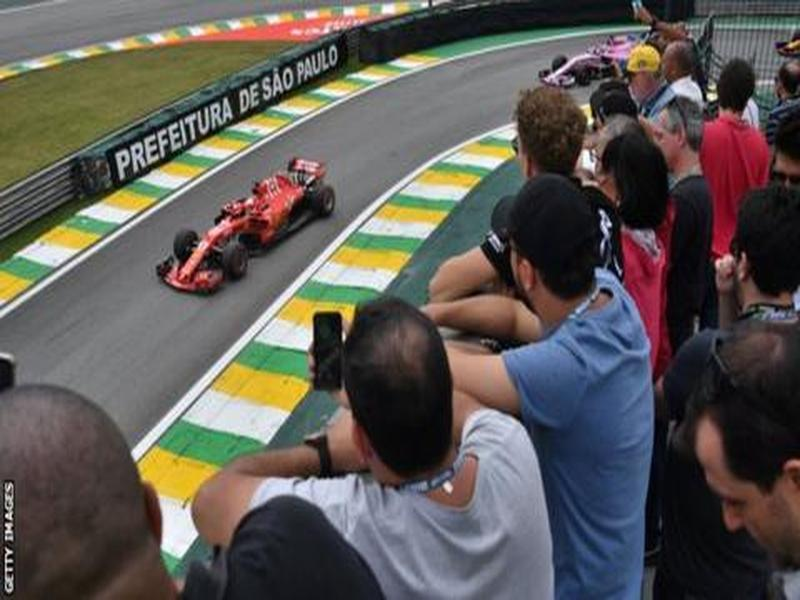f1: (158, 162, 350, 288)
